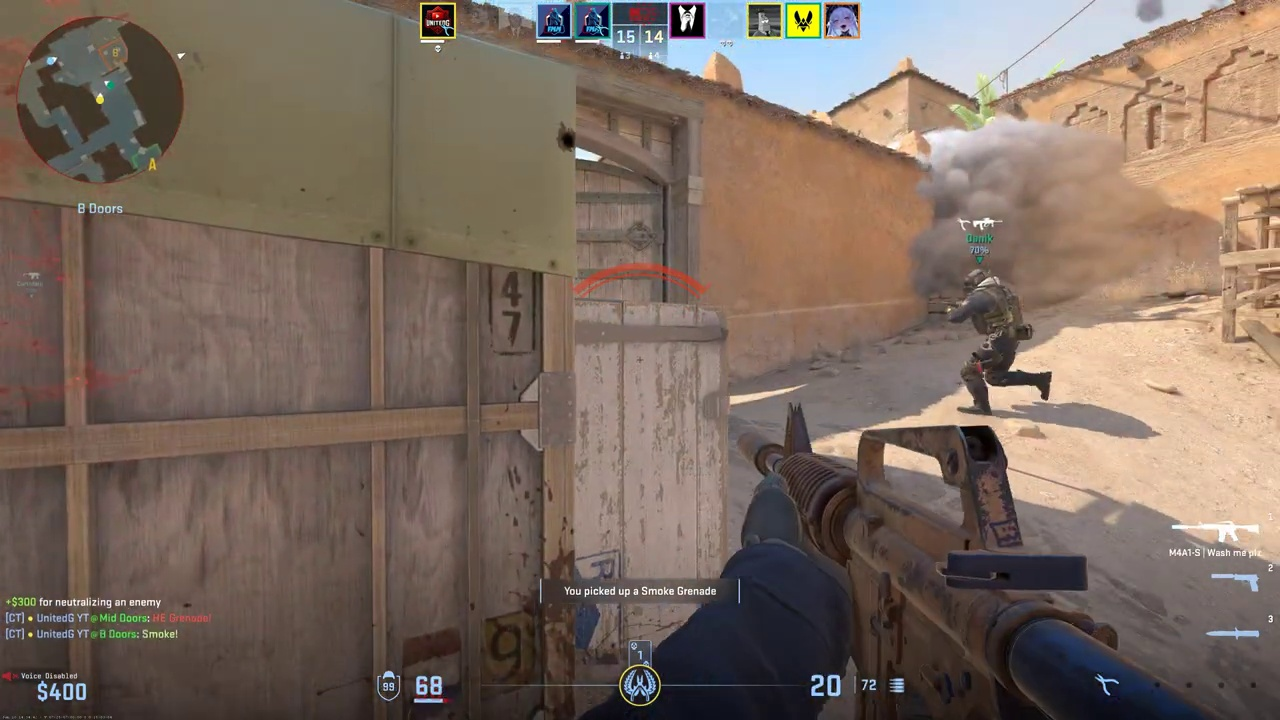CT: (954, 268, 1038, 414)
